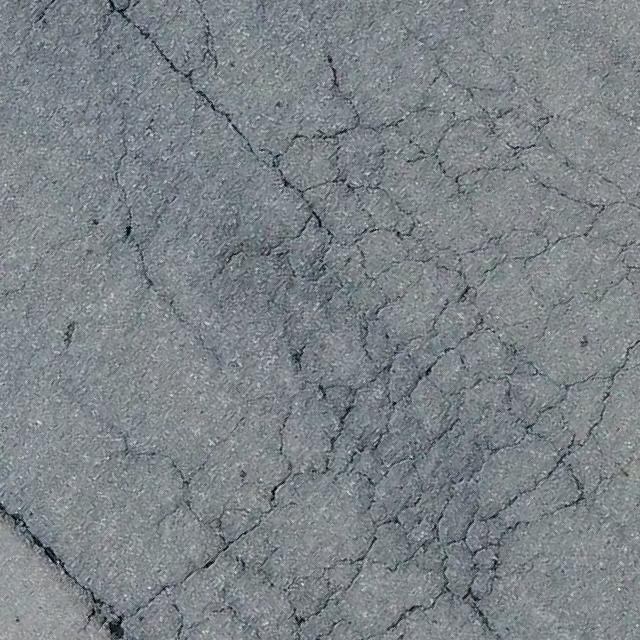GRIETA: (0, 502, 124, 639)
PIEL DE COCODRILO: (79, 0, 639, 639)
